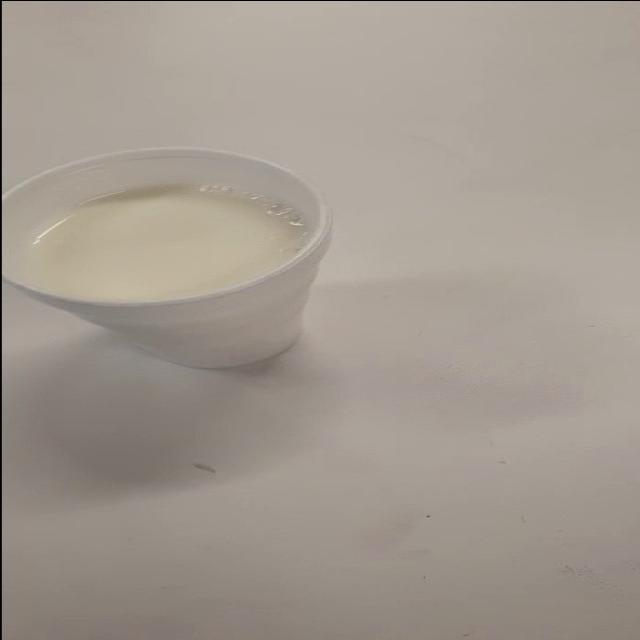Milk: (0, 124, 429, 417)
